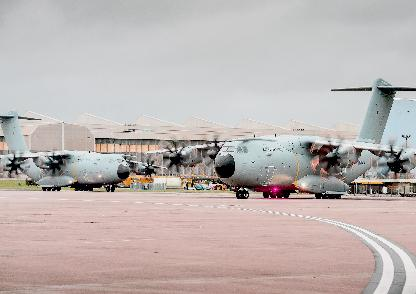A400M: (143, 76, 415, 198), (0, 108, 168, 190)
